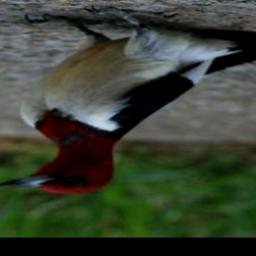Woodpecker: (0, 8, 256, 196)
